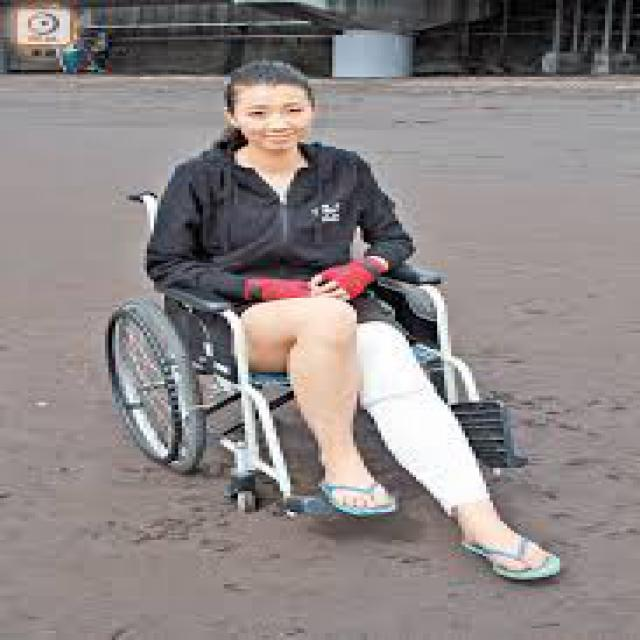wheelchairs: (80, 172, 528, 512)
